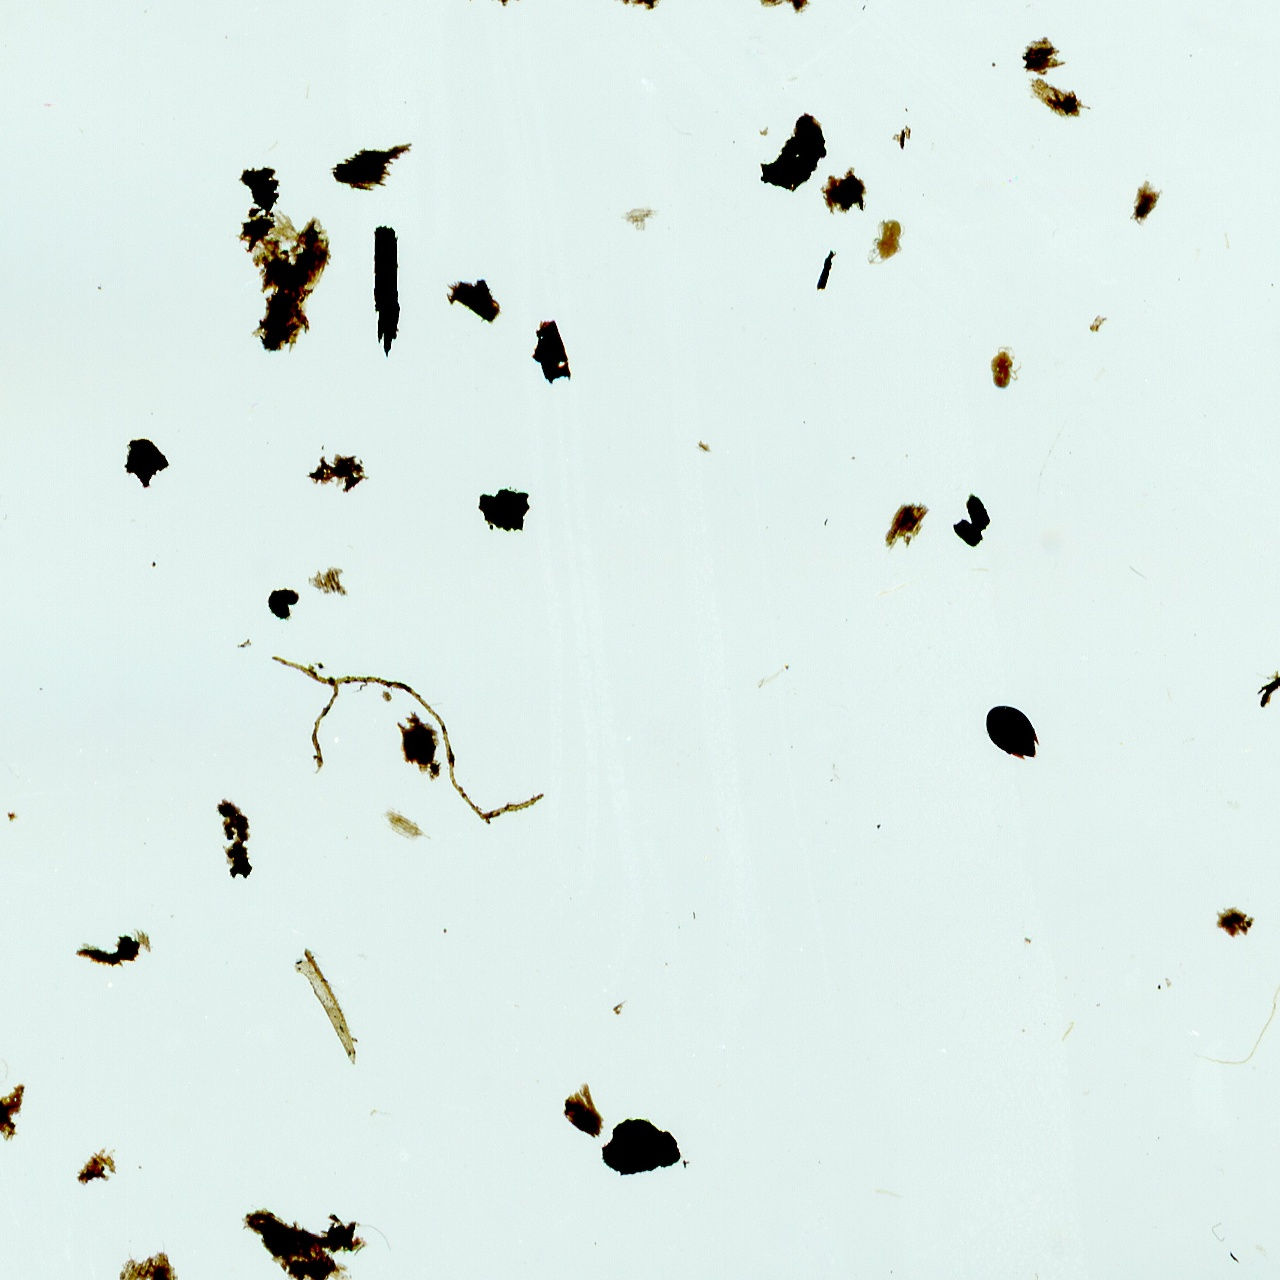arthropod: (982, 702, 1041, 762), (865, 215, 908, 268), (987, 342, 1024, 392)
